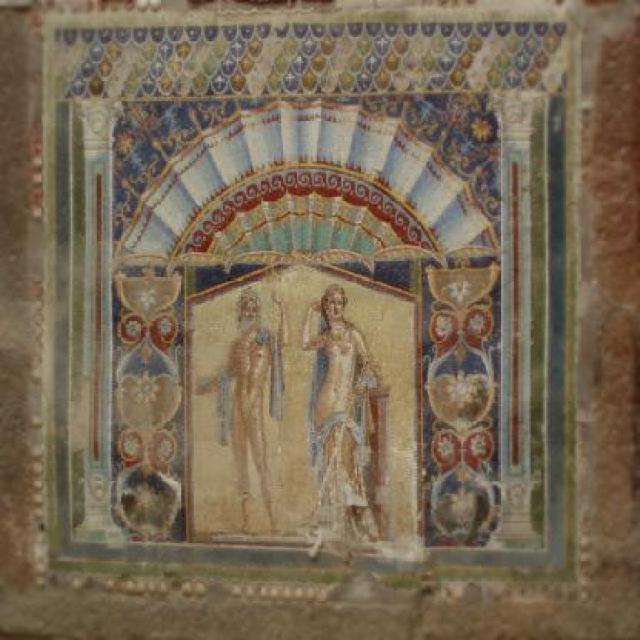Person: (196, 284, 290, 536), (308, 273, 372, 542)
